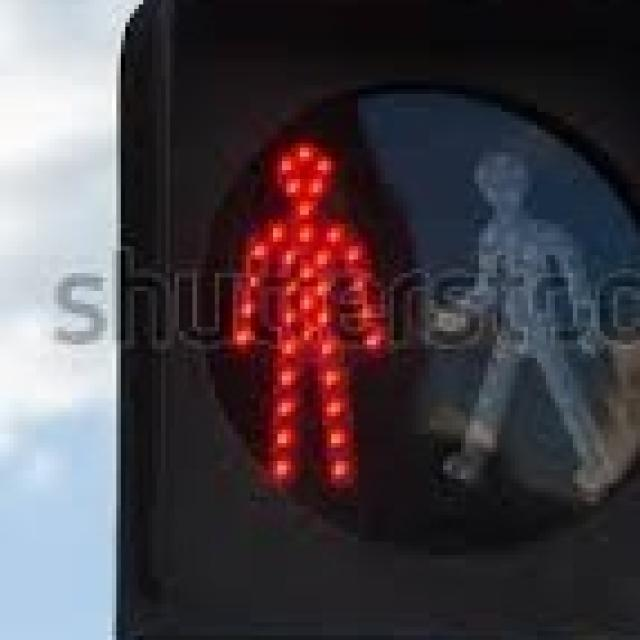red-crossing: (202, 112, 398, 506)
